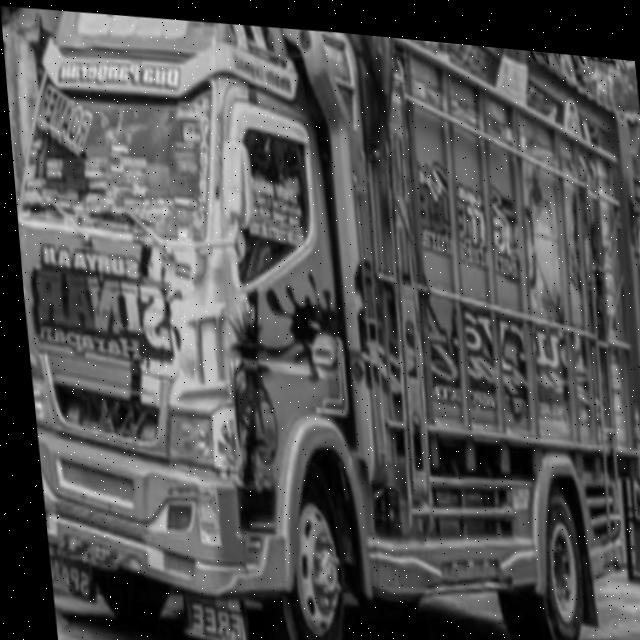truck: (1, 1, 410, 640)
